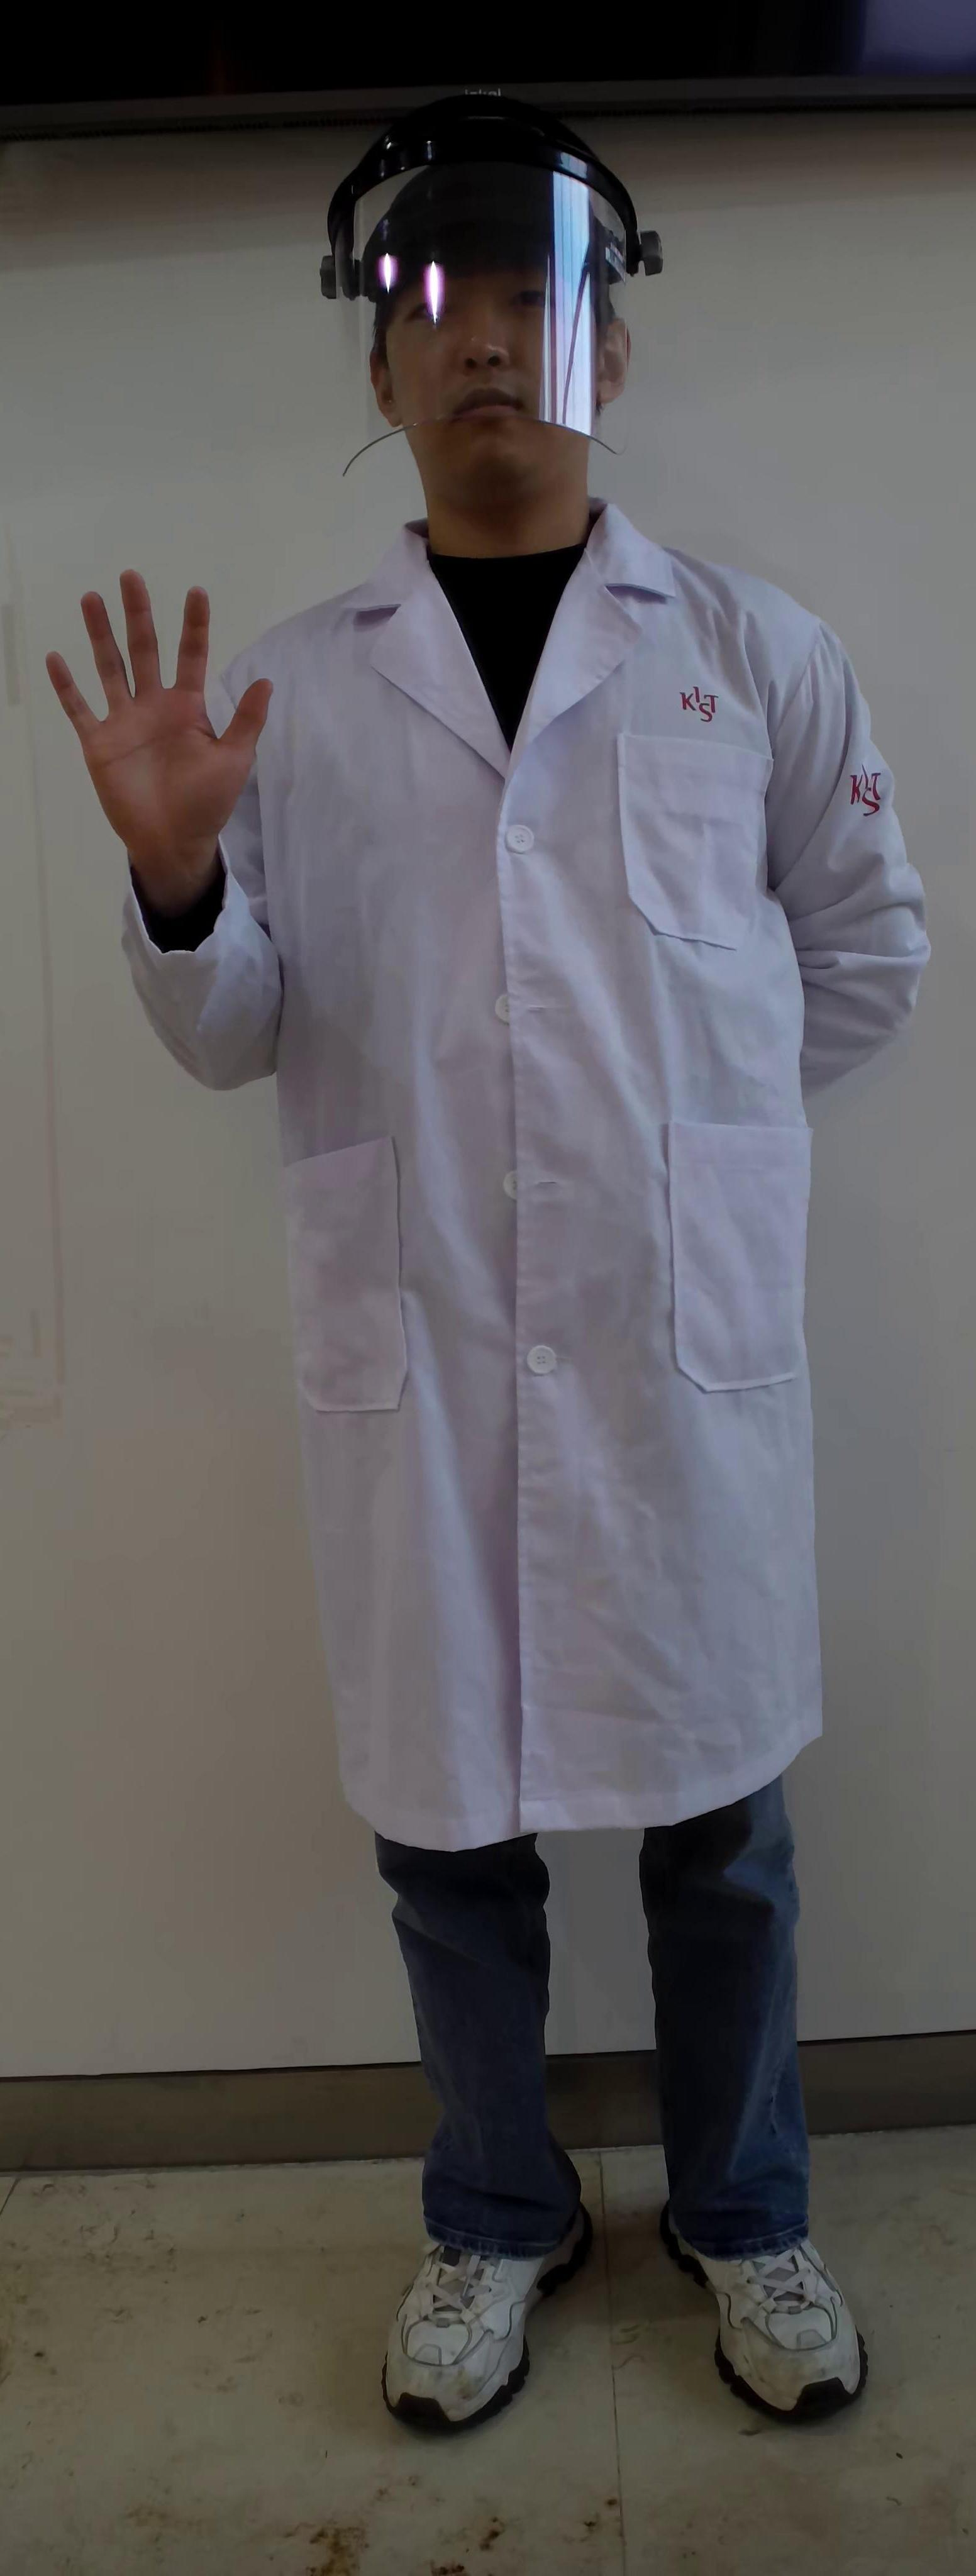lab_coat: (260, 605, 951, 1843)
